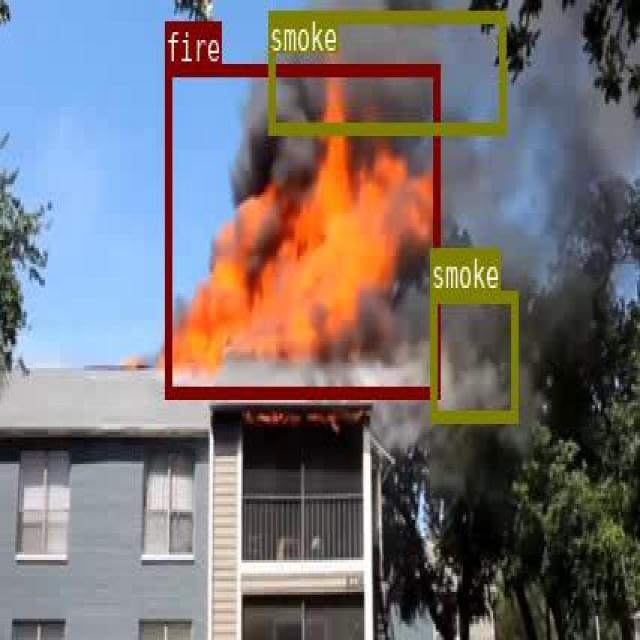fire: (165, 62, 439, 397)
smoke: (267, 11, 504, 132), (430, 291, 516, 421)
